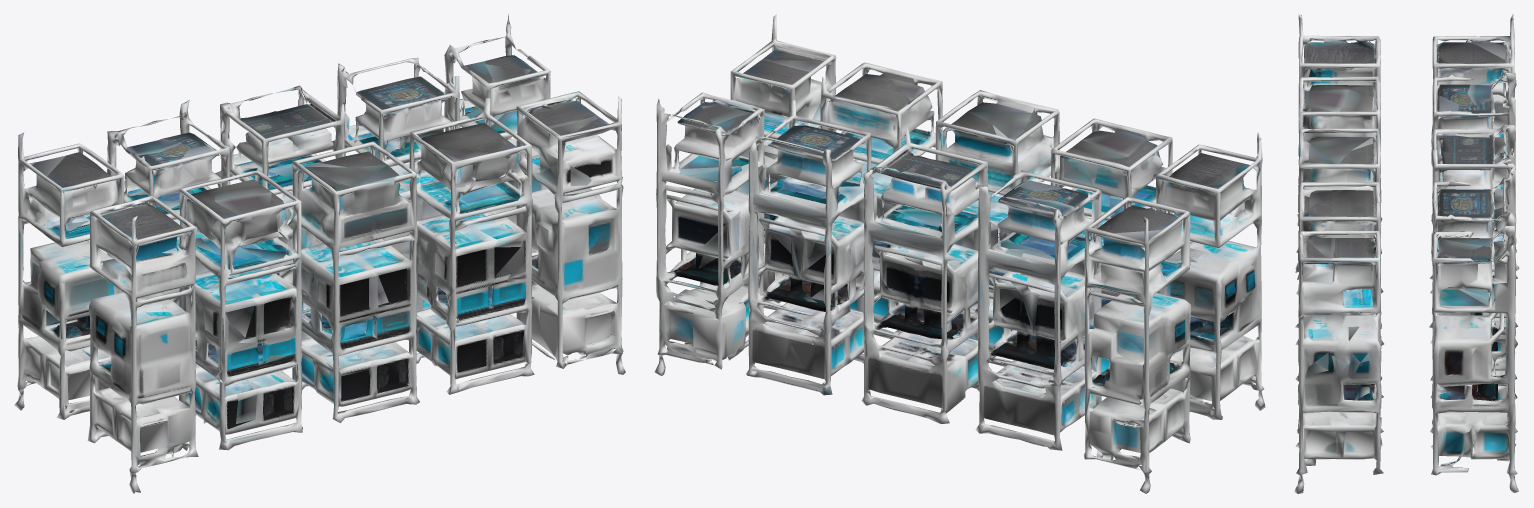
File: evidence-vault-rack.glb
The picture shows the model from 3 angles, left to right: view 1: azimuth 30°, elevation 25°; view 2: azimuth 150°, elevation 25°; view 3: azimuth 270°, elevation 25°; orthographic projection. The views are drawn at different scales.
Bounding box in the file's own units: 1.91 × 1.03 × 0.8054.
1 material, 1 textured.
